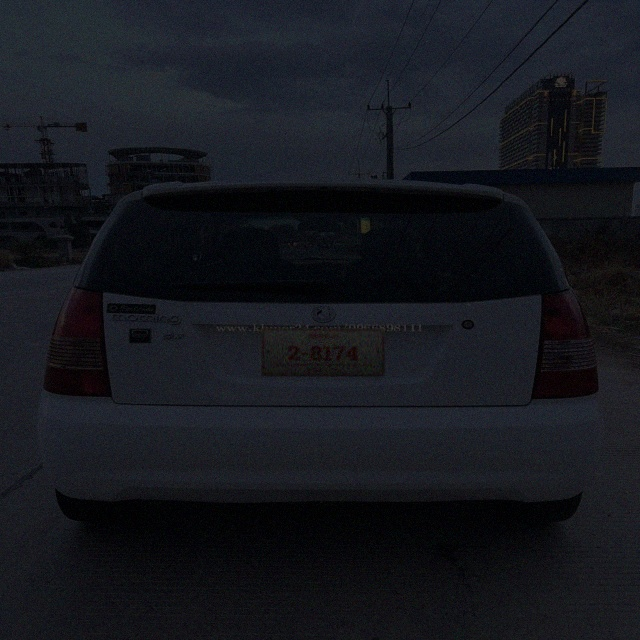Plate Number: (262, 328, 385, 377)
